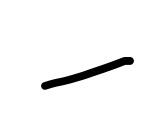minus: (41, 56, 134, 89)
